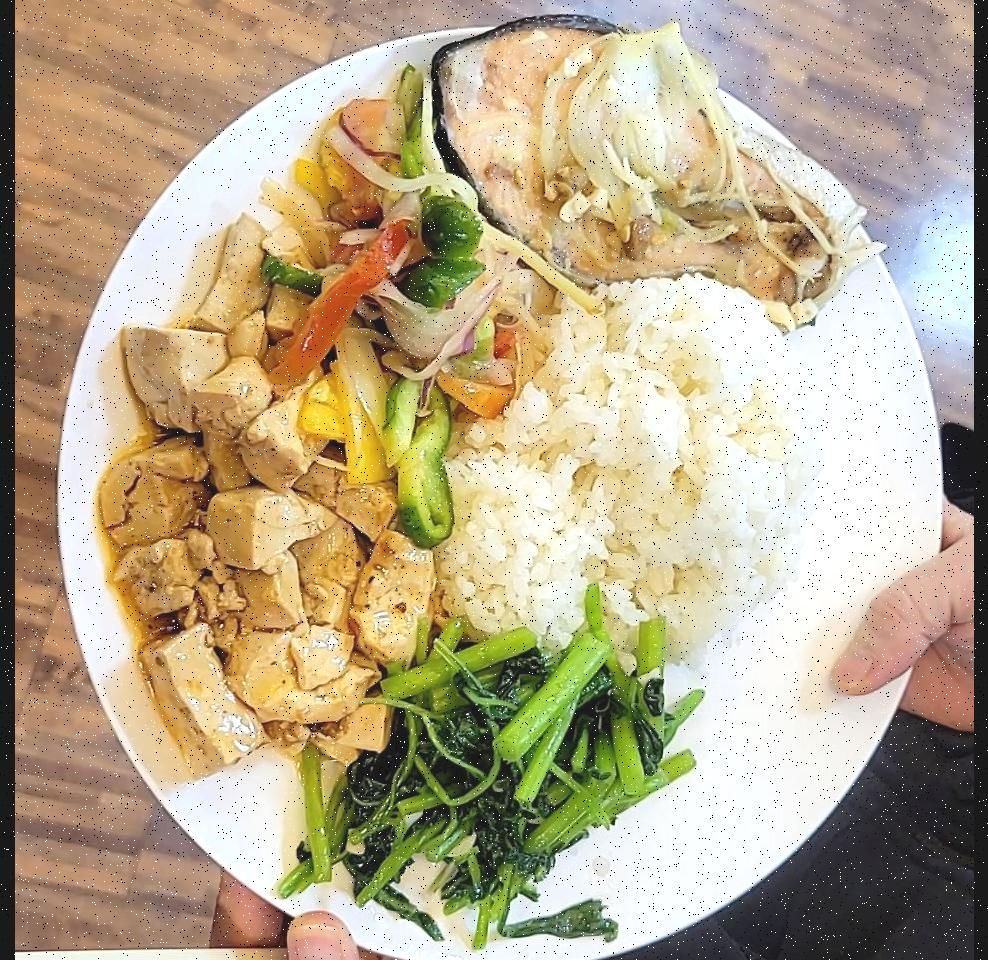plate: (57, 28, 954, 960)
salmon: (433, 14, 850, 324)
side dish: (100, 336, 442, 762), (258, 88, 542, 537), (314, 640, 680, 945)
white rice: (448, 286, 832, 666)
